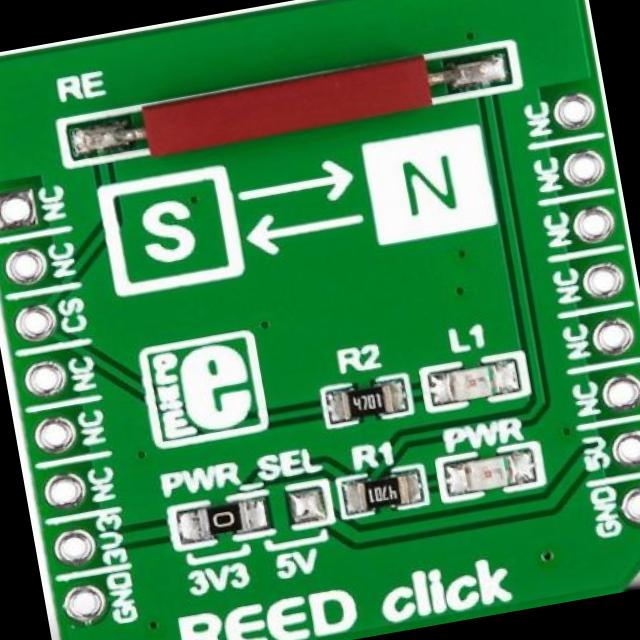LED: (442, 449, 525, 494), (439, 363, 506, 405)
resistor: (181, 493, 261, 544), (334, 382, 405, 424), (353, 472, 412, 511)
